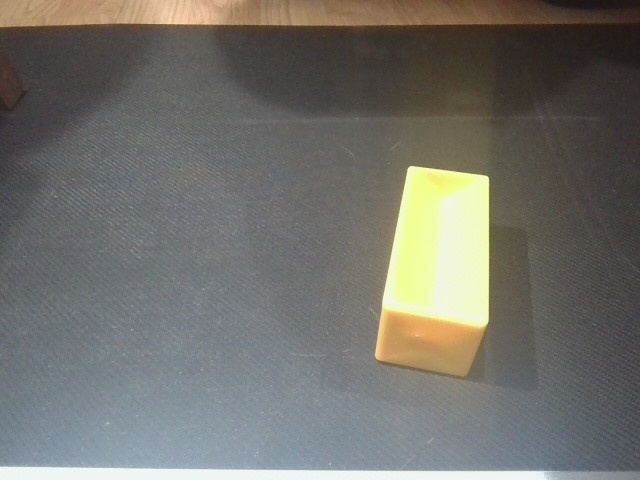YellowSample: (373, 162, 499, 381)
